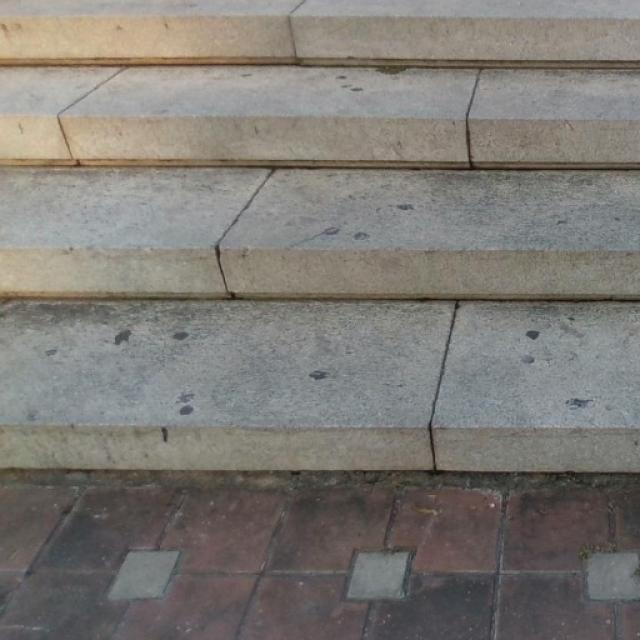Stairs: (0, 11, 639, 472)
